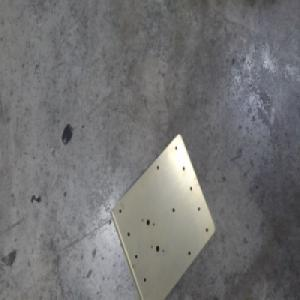MetalSheet: (108, 131, 216, 300)
